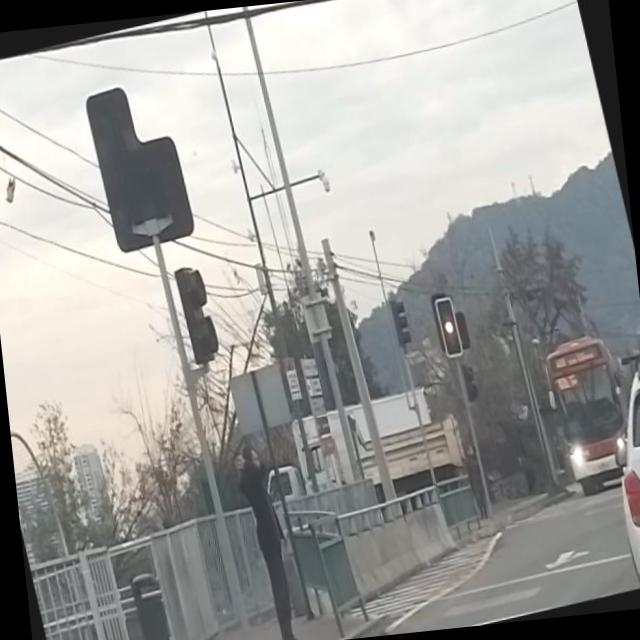person: (229, 435, 320, 640)
